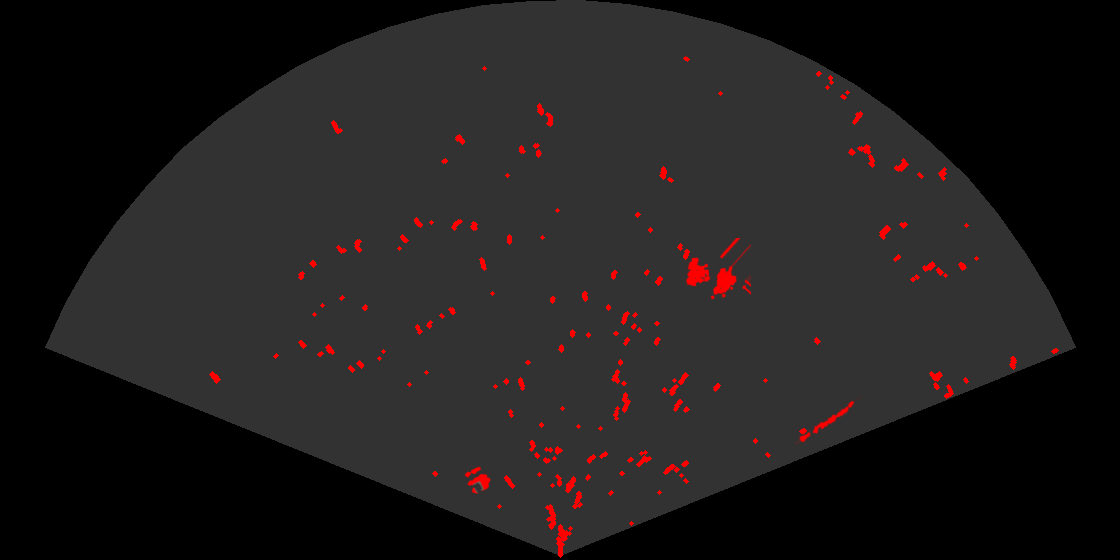ball: (463, 465, 492, 496)
cage: (684, 238, 751, 301)
chain: (795, 397, 863, 446)
